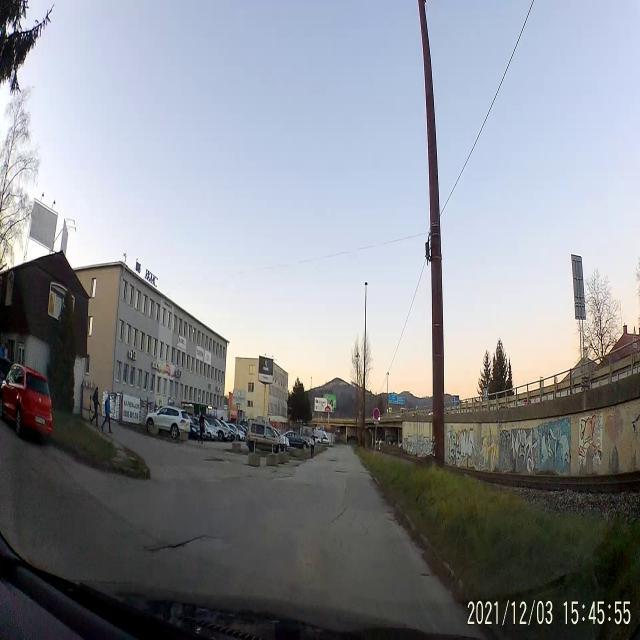Pothole: (142, 535, 210, 554), (328, 456, 337, 464)
